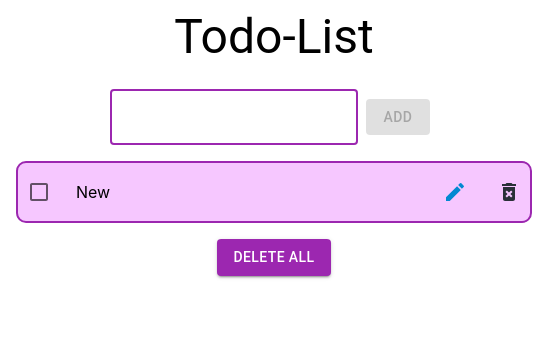
Test case: render App component › Should delete entire list
Expected: the button with test id "btn-add" is disabled, x1=366 y1=99 x2=430 y2=135
In the field with test id "input-text": [234, 117] box x1=110 y1=89 x2=358 y2=145, type "New"
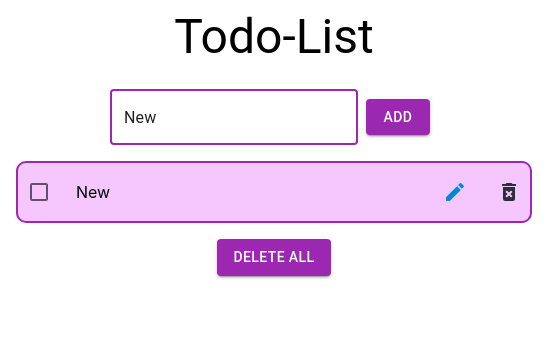
Now the button with test id "btn-add" is enabled
Click the button with test id "btn-add": [398, 117] box x1=366 y1=99 x2=430 y2=135
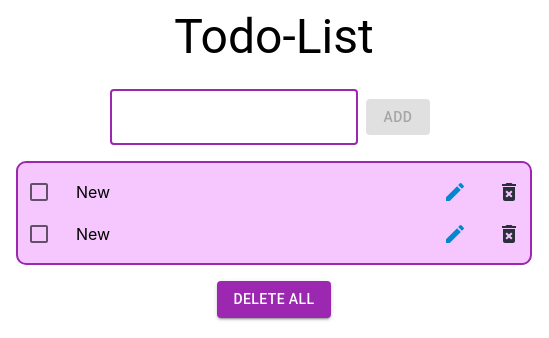
Click the button with test id "btn-deleteAll": [274, 299] box x1=218 y1=281 x2=331 y2=318
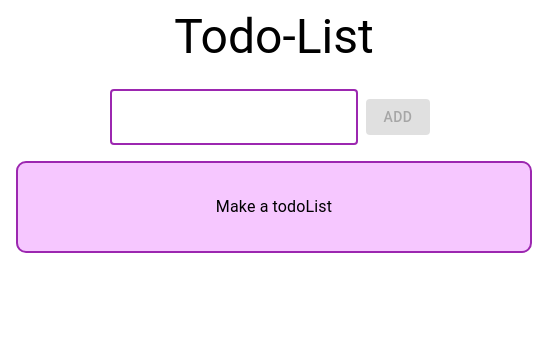
Now the text "Make a todoList" is shown, box x1=216 y1=197 x2=332 y2=216
